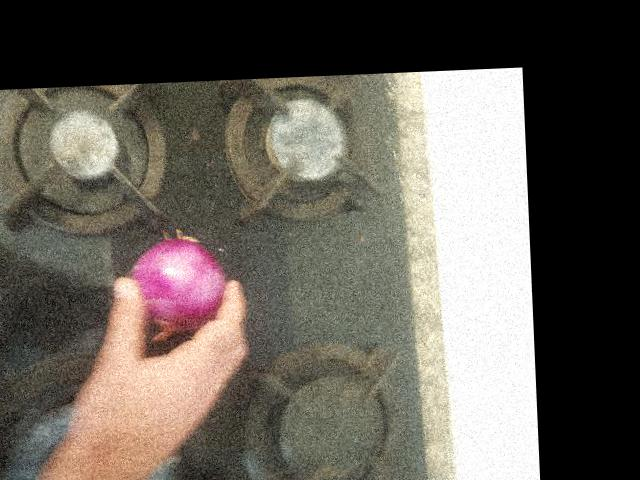onion: (280, 150, 367, 255)
